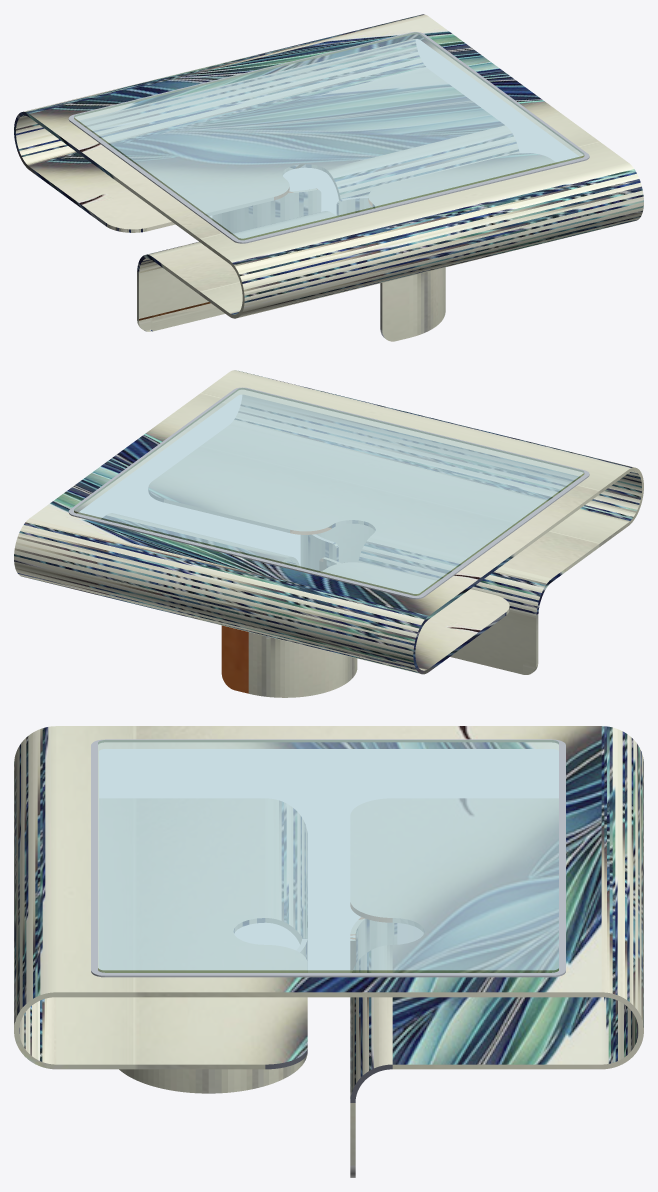
Rendered from coffeetable.obj.
3 renders of one model, top to bottom at view 1: azimuth 30°, elevation 25°; view 2: azimuth 150°, elevation 25°; view 3: azimuth 270°, elevation 25°, orthographic. The views are drawn at different scales.
Parts seen in each view (by area): view 1: Mesh1 Model; view 2: Mesh1 Model; view 3: Mesh1 Model.
Boxes of the visible parts, x1=… form: Mesh1 Model: x1=14, y1=14, x2=643, y2=341; Mesh1 Model: x1=14, y1=370, x2=643, y2=697; Mesh1 Model: x1=14, y1=726, x2=643, y2=1177.
Size of the model in its own units: 44.5 by 15.31 by 44.5.
